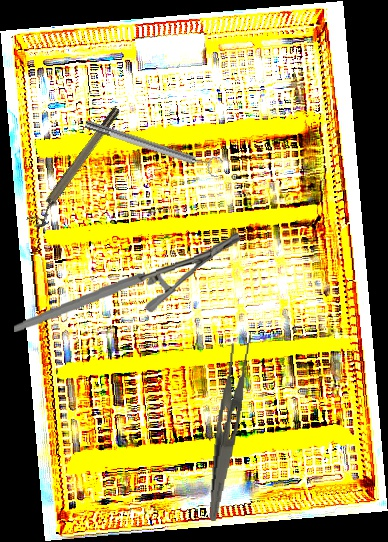Dressing Forceps: (207, 333, 255, 523)
Fixation Ring: (25, 104, 128, 232), (82, 112, 224, 180)
Needle Holder: (9, 231, 246, 332)
